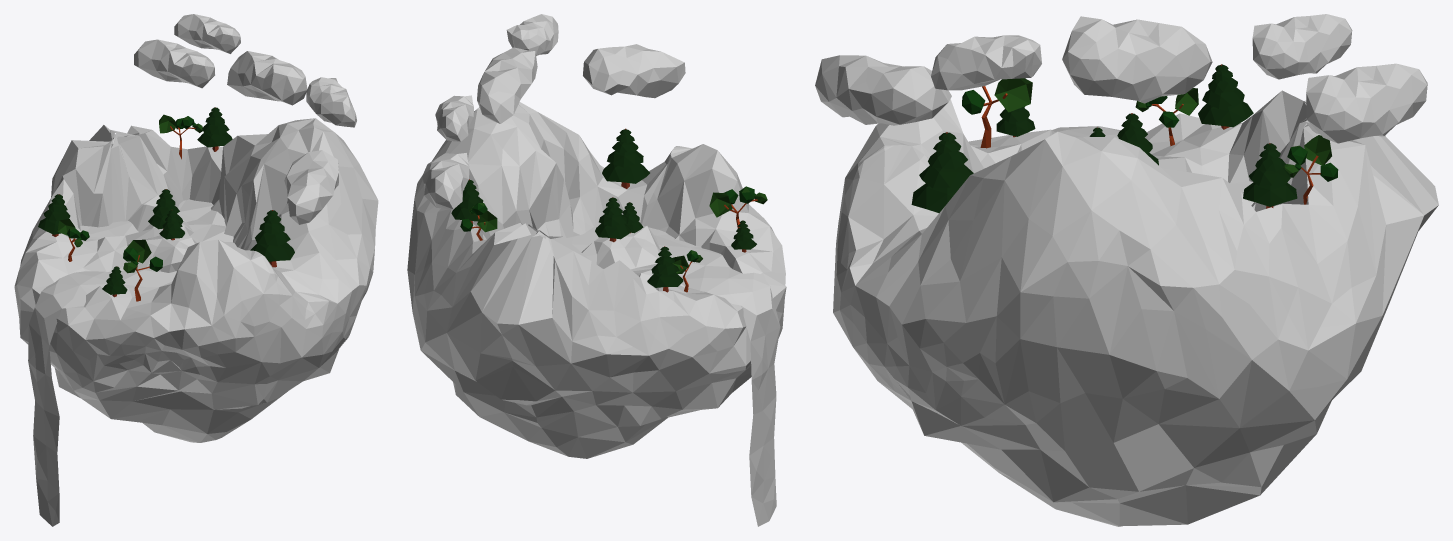
File: PolyIsland.obj
3 views of the same model, side by side, from view 1: azimuth 30°, elevation 25°; view 2: azimuth 150°, elevation 25°; view 3: azimuth 270°, elevation 25° (orthographic). The views are drawn at different scales.
Visible parts, largest first — view 1: Icosphere, Plane, Icosphere.003_Icosphere.004, Icosphere.002_Icosphere.003, Icosphere.001_Icosphere.002, Icosphere.005_Icosphere.006, Icosphere.004_Icosphere.005, Plane.003, Cube, Plane.005, Plane.004, Plane.001 (+4 smaller); view 2: Icosphere, Plane, Icosphere.002_Icosphere.003, Icosphere.003_Icosphere.004, Icosphere.001_Icosphere.002, Plane.003, Icosphere.005_Icosphere.006, Icosphere.004_Icosphere.005, Cube, Plane.001, Plane.004, Cube.001 (+2 smaller); view 3: Icosphere, Icosphere.003_Icosphere.004, Icosphere.001_Icosphere.002, Icosphere.002_Icosphere.003, Icosphere.004_Icosphere.005, Icosphere.005_Icosphere.006, Plane.003, Plane.004, Plane.005, Cube, Cube.001, Cube.003 (+2 smaller).
Part boxes in pixels (box(x1,y1,x2,y2)): Icosphere: box(14, 118, 378, 442); Plane: box(28, 199, 236, 526); Icosphere.003_Icosphere.004: box(227, 51, 307, 105); Icosphere.002_Icosphere.003: box(284, 150, 338, 224); Icosphere.001_Icosphere.002: box(134, 39, 214, 88); Icosphere.005_Icosphere.006: box(306, 77, 356, 127); Icosphere.004_Icosphere.005: box(174, 14, 240, 53); Plane.003: box(250, 210, 294, 267); Cube: box(123, 239, 162, 301); Plane.005: box(197, 107, 232, 151); Plane.004: box(38, 194, 70, 236); Plane.001: box(148, 189, 183, 229); Icosphere: box(407, 102, 786, 458); Plane: box(565, 225, 780, 526); Icosphere.002_Icosphere.003: box(583, 44, 685, 98); Icosphere.003_Icosphere.004: box(477, 47, 537, 123); Icosphere.001_Icosphere.002: box(422, 153, 469, 209); Plane.003: box(602, 128, 649, 188); Icosphere.005_Icosphere.006: box(506, 14, 558, 55); Icosphere.004_Icosphere.005: box(435, 95, 473, 141); Cube: box(709, 186, 767, 232); Plane.001: box(595, 197, 631, 242); Plane.004: box(647, 246, 683, 292); Cube.001: box(460, 203, 497, 240); Icosphere: box(833, 90, 1438, 526); Icosphere.003_Icosphere.004: box(1062, 16, 1212, 103); Icosphere.001_Icosphere.002: box(1306, 63, 1427, 143); Icosphere.002_Icosphere.003: box(815, 55, 951, 125); Icosphere.004_Icosphere.005: box(1252, 14, 1352, 79); Icosphere.005_Icosphere.006: box(931, 35, 1041, 90); Plane.003: box(911, 132, 973, 212); Plane.004: box(1198, 64, 1253, 129); Plane.005: box(1243, 143, 1297, 208); Cube: box(962, 78, 1032, 148); Cube.001: box(1283, 135, 1338, 204); Cube.003: box(1135, 88, 1198, 146).
Bounding box in the file's own units: 19.98 × 23.9 × 21.63.
